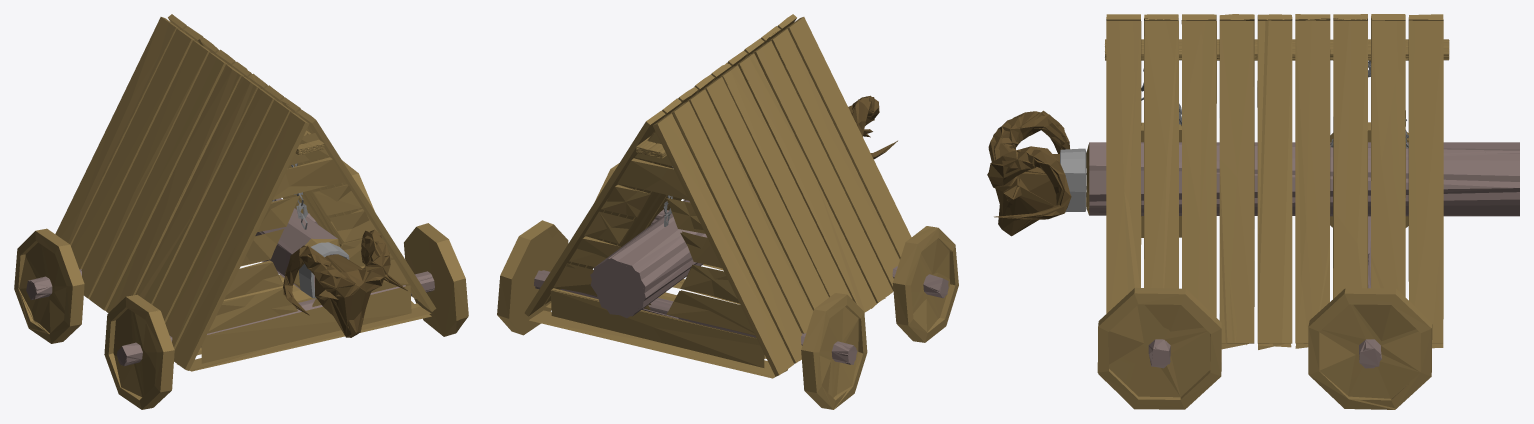
File: BOUKY.fbx
3 renders of one model, left to right at view 1: azimuth 30°, elevation 25°; view 2: azimuth 150°, elevation 25°; view 3: azimuth 270°, elevation 25°, orthographic. The views are drawn at different scales.
Parts seen in each view (by area): view 1: Cube.002, Cube.005, Cube.009, Cube, Cube.008, Cube.003, Cube.007; view 2: Cube.002, Cube.006, Cube.008, Cube, Cube.009, Cube.003; view 3: Cube.002, Cube, Cube.008, Cube.009, Cube.007, Cube.001.
Boxes of the visible parts, <box> form: Cube.002: <box>55,14,436,370</box>; Cube.005: <box>201,133,411,363</box>; Cube.009: <box>104,223,468,409</box>; Cube: <box>255,198,407,337</box>; Cube.008: <box>14,160,374,343</box>; Cube.003: <box>177,261,431,371</box>; Cube.007: <box>299,242,349,298</box>; Cube.002: <box>524,14,911,376</box>; Cube.006: <box>550,132,764,367</box>; Cube.008: <box>497,220,867,409</box>; Cube: <box>590,95,897,318</box>; Cube.009: <box>595,163,958,342</box>; Cube.003: <box>529,264,889,378</box>; Cube.002: <box>1106,14,1443,343</box>; Cube: <box>987,110,1519,236</box>; Cube.008: <box>1308,122,1432,409</box>; Cube.009: <box>1097,122,1221,409</box>; Cube.007: <box>1060,148,1086,212</box>; Cube.001: <box>1105,39,1449,60</box>.
Size of the model in its own units: 5617 by 4185 by 6652.
